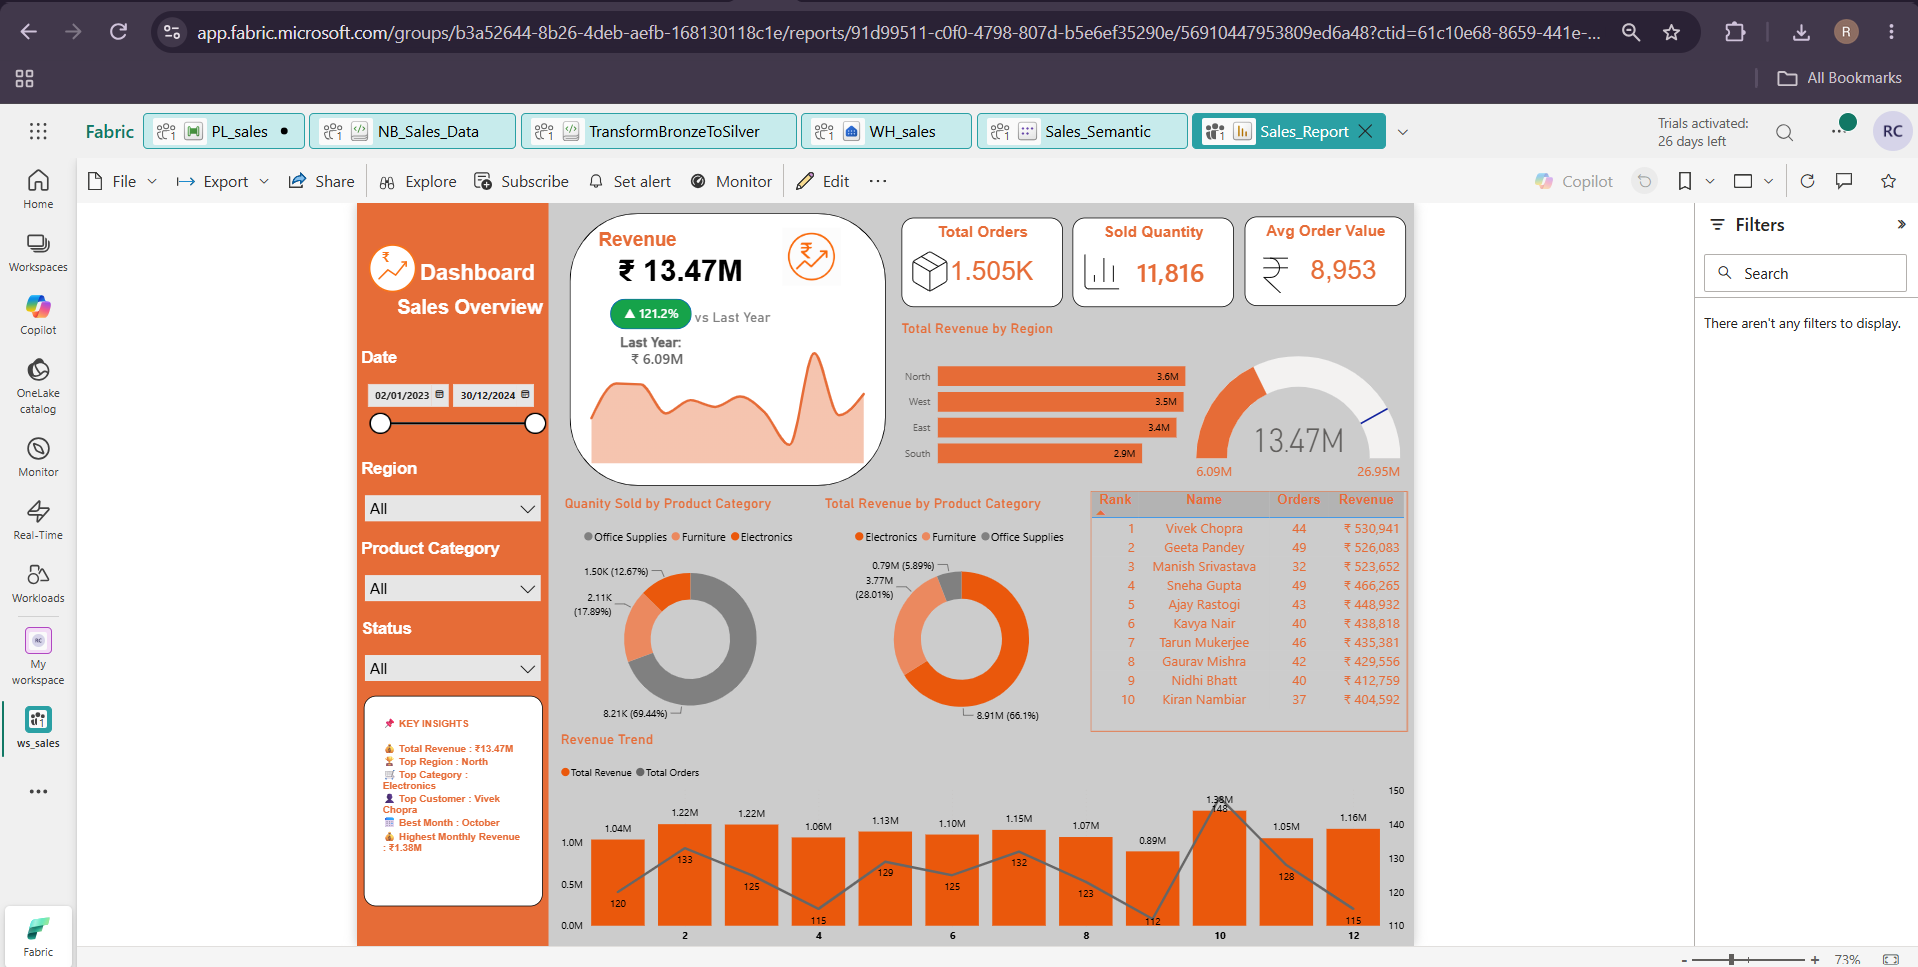

Layout of this report page (visuals, bound fields, positions):
{"tool":"powerbi","page":{"name":"Page 1","canvas":[1280,900],"ordinal":0},"visuals":[{"type":"shape","box":[0,0,232.2,900.3],"z":0},{"type":"shape","title":"YOY bg","box":[307.1,115.8,98.9,37.1],"z":0,"group":"g5"},{"type":"cardVisual","title":"LY","fields":{"Data":["fact_sales.Last Year Revenue"]},"box":[246.9,160.4,234.6,53.6],"z":0,"group":"g6"},{"type":"cardVisual","title":"YOY%","fields":{"Data":["fact_sales.Revenue YoY %"]},"box":[289.6,96.7,125,71.5],"z":1000,"group":"g5"},{"type":"shape","title":"Last Year:","box":[319.6,157.4,248.7,20.1],"z":1000,"group":"g6"},{"type":"slicer","title":"Date","fields":{"Values":["dim_date.full_date"]},"box":[0,176.4,232.2,138.7],"z":1000},{"type":"cardVisual","title":"Total Orders","fields":{"Data":["fact_sales.Total Orders"]},"box":[659.5,17.7,195.3,108.3],"z":2000,"group":"g3"},{"type":"cardVisual","title":"Total Orders","fields":{"Data":["dim_customer.Key Insights"]},"box":[8.1,597.1,217.2,254.9],"z":2000,"group":"g7"},{"type":"lineClusteredColumnComboChart","title":"Revenue Trend","fields":{"Category":["dim_date.month_number"],"Y":["fact_sales.Total Revenue"],"Y2":["fact_sales.Total Orders"]},"box":[247.3,639.4,1022.5,260.9],"z":2000},{"type":"cardVisual","title":"Sold Quantity","fields":{"Data":["fact_sales.Total Quanity Sold"]},"box":[866.2,17.7,195.3,108.3],"z":3000,"group":"g1"},{"type":"group","id":"g1","title":"Sold Qty","box":[866.2,17.7,195.3,108.3],"z":3000},{"type":"group","id":"g2","title":"Avg Order Value","box":[1075.7,16.2,195.3,108.3],"z":4000},{"type":"cardVisual","title":"Avg Order Value","fields":{"Data":["fact_sales.Avg Order Value"]},"box":[1075.7,16.2,195.3,108.3],"z":4000,"group":"g2"},{"type":"group","id":"g3","title":"Orders","box":[659.5,17.7,195.3,108.3],"z":5000},{"type":"group","id":"g4","title":"Sales KPI","box":[246.9,12.1,394,330.3],"z":6000},{"type":"image","box":[666,50.9,55.2,65],"z":6000,"group":"g3"},{"type":"image","box":[874.4,50.2,55,66.5],"z":7000,"group":"g1"},{"type":"donutChart","title":"Total Revenue by Product Category","fields":{"Category":["dim_product.product_category"],"Y":["fact_sales.Total Revenue"]},"box":[561,352.9,340.8,291.1],"z":7000},{"type":"image","box":[1084.7,53.7,55.6,66.5],"z":8000,"group":"g2"},{"type":"barChart","fields":{"Category":["dim_region.Region"],"Y":["fact_sales.Total Revenue"]},"box":[659,141.8,343.8,187],"z":8000},{"type":"donutChart","title":"Quanity Sold by Product Category","fields":{"Category":["dim_product.product_category"],"Y":["fact_sales.Total Quanity Sold"]},"box":[247.3,352.9,313.7,291.1],"z":9000},{"type":"tableEx","fields":{"Values":["fact_sales.Customer Rank","dim_customer.customer_name","fact_sales.Total Orders","fact_sales.Total Revenue"]},"box":[888.2,348.6,383.6,291.3],"z":10000},{"type":"image","box":[0,37.7,86,81.4],"z":11000},{"type":"slicer","title":"Region","fields":{"Values":["dim_region.Region"]},"box":[0,310.7,232.2,96.5],"z":12000},{"type":"shape","box":[257.8,12.1,383,330.3],"z":13000,"group":"g4"},{"type":"slicer","title":"Product Category","fields":{"Values":["dim_product.product_category"]},"box":[0,407.2,232.2,96.5],"z":13000},{"type":"cardVisual","title":"Revenue","fields":{"Data":["fact_sales.Total Revenue"]},"box":[287.3,31.5,211.1,81.2],"z":14000,"group":"g4"},{"type":"slicer","title":"Status","fields":{"Values":["dim_status.Status"]},"box":[0,503.7,232.2,96.5],"z":14000},{"type":"shape","title":"Dashboard","box":[76.9,69.4,159.9,330.3],"z":15000},{"type":"group","id":"g5","title":"YOY %","box":[289.6,96.7,125,71.5],"z":16000,"group":"g4"},{"type":"textbox","box":[43.7,107.1,230.7,69.4],"z":16000},{"type":"gauge","title":"Target Revenue","fields":{"MinValue":["fact_sales.Last Year Revenue"],"TargetValue":["dim_customer.Target Revenue"],"Y":["fact_sales.Total Revenue"]},"box":[1017.6,142.7,247.9,209],"z":17000},{"type":"group","id":"g6","title":"LY","box":[246.9,157.4,321.5,56.6],"z":17000,"group":"g4"},{"type":"lineChart","fields":{"Category":["dim_date.month_number"],"Y":["fact_sales.Total Revenue"]},"box":[274.6,168.8,349.9,146.3],"z":18000,"group":"g4"},{"type":"group","id":"g7","title":"Orders","box":[8.1,597.1,217.2,254.9],"z":18001},{"type":"image","box":[471.9,30.4,158.1,70.4],"z":19000,"group":"g4"},{"type":"shape","title":"vs Last Year","box":[408.4,128.2,135.7,19.6],"z":20000,"group":"g4"}]}

Visuals, with their boxes on the page's 1280x900 design canvas (x1, y1, x2, y2). These are canvas units, not pixel positions in the 1918x967 screenshot, which may show the page scaled, cropped or inside an application window:
shape: select_region(0, 0, 232, 900)
"YOY bg" shape: select_region(307, 116, 406, 153)
"LY" cardVisual: select_region(247, 160, 482, 214)
"YOY%" cardVisual: select_region(290, 97, 415, 168)
"Last Year:" shape: select_region(320, 157, 568, 178)
"Date" slicer: select_region(0, 176, 232, 315)
"Total Orders" cardVisual: select_region(660, 18, 855, 126)
"Total Orders" cardVisual: select_region(8, 597, 225, 852)
"Revenue Trend" lineClusteredColumnComboChart: select_region(247, 639, 1270, 900)
"Sold Quantity" cardVisual: select_region(866, 18, 1062, 126)
"Sold Qty" group: select_region(866, 18, 1062, 126)
"Avg Order Value" group: select_region(1076, 16, 1271, 124)
"Avg Order Value" cardVisual: select_region(1076, 16, 1271, 124)
"Orders" group: select_region(660, 18, 855, 126)
"Sales KPI" group: select_region(247, 12, 641, 342)
image: select_region(666, 51, 721, 116)
image: select_region(874, 50, 929, 117)
"Total Revenue by Product Category" donutChart: select_region(561, 353, 902, 644)
image: select_region(1085, 54, 1140, 120)
barChart - dim_region.Region x fact_sales.Total Revenue: select_region(659, 142, 1003, 329)
"Quanity Sold by Product Category" donutChart: select_region(247, 353, 561, 644)
tableEx - fact_sales.Customer Rank x dim_customer.customer_name: select_region(888, 349, 1272, 640)
image: select_region(0, 38, 86, 119)
"Region" slicer: select_region(0, 311, 232, 407)
shape: select_region(258, 12, 641, 342)
"Product Category" slicer: select_region(0, 407, 232, 504)
"Revenue" cardVisual: select_region(287, 32, 498, 113)
"Status" slicer: select_region(0, 504, 232, 600)
"Dashboard" shape: select_region(77, 69, 237, 400)
"YOY %" group: select_region(290, 97, 415, 168)
textbox: select_region(44, 107, 274, 176)
"Target Revenue" gauge: select_region(1018, 143, 1266, 352)
"LY" group: select_region(247, 157, 568, 214)
lineChart - dim_date.month_number x fact_sales.Total Revenue: select_region(275, 169, 624, 315)
"Orders" group: select_region(8, 597, 225, 852)
image: select_region(472, 30, 630, 101)
"vs Last Year" shape: select_region(408, 128, 544, 148)
